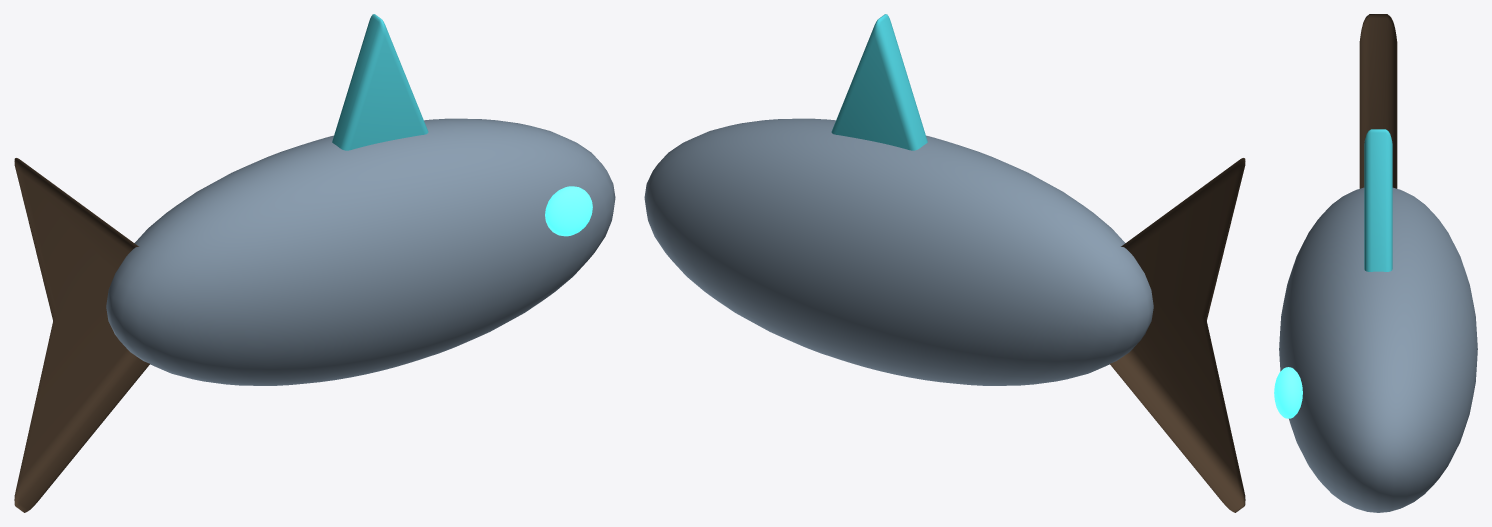
Rendered from aquatic_v2.glb.
The picture shows the model from 3 angles, left to right: view 1: azimuth 30°, elevation 25°; view 2: azimuth 150°, elevation 25°; view 3: azimuth 270°, elevation 25°; orthographic projection.
Visible parts, largest first — view 1: SHARK_BODY_PRIMARY, SHARK_TAIL_SECONDARY, SHARK_DORSAL_ACCENT, EYE_EMISSIVE; view 2: SHARK_BODY_PRIMARY, SHARK_TAIL_SECONDARY, SHARK_DORSAL_ACCENT; view 3: SHARK_BODY_PRIMARY, SHARK_TAIL_SECONDARY, SHARK_DORSAL_ACCENT, EYE_EMISSIVE.
Part boxes in pixels (x1,y1,x2,y2): SHARK_BODY_PRIMARY: (106,118,615,385); SHARK_TAIL_SECONDARY: (14,158,149,512); SHARK_DORSAL_ACCENT: (332,14,428,150); EYE_EMISSIVE: (545,186,592,236); SHARK_BODY_PRIMARY: (644,118,1153,385); SHARK_TAIL_SECONDARY: (1110,158,1245,512); SHARK_DORSAL_ACCENT: (831,14,927,150); SHARK_BODY_PRIMARY: (1279,187,1477,512); SHARK_TAIL_SECONDARY: (1359,14,1397,188); SHARK_DORSAL_ACCENT: (1364,129,1392,271); EYE_EMISSIVE: (1274,367,1302,418).
Size of the model in its own units: 2.33 by 1.53 by 0.706.
